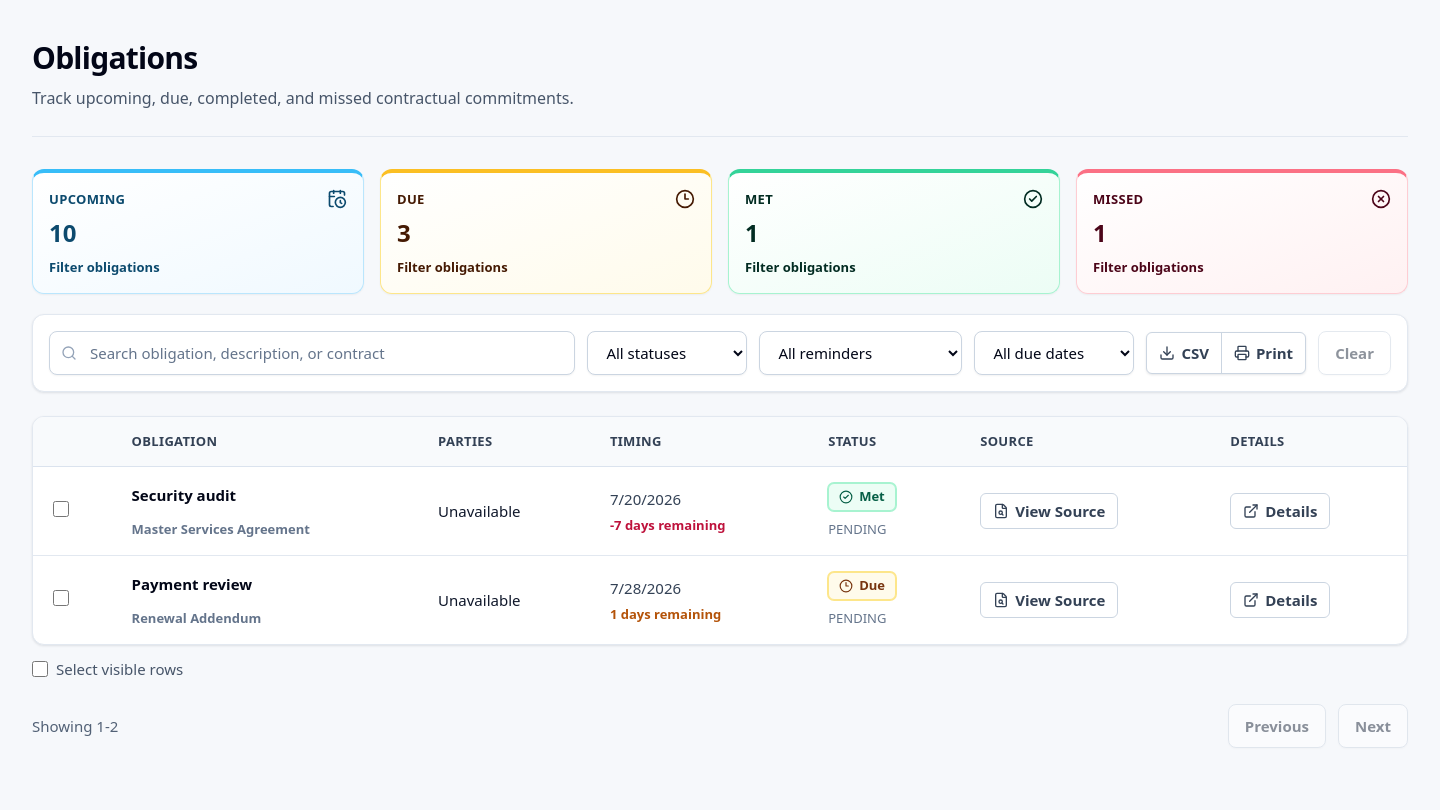
Test case: ObligationsPage › renders universal counts, contract names, filters, and routed action links
Expected: the text "10" is shown, [49, 216, 76, 249]
Expected: the text "3" is shown, [397, 216, 411, 249]
Click the button "Due 3 Filter obligations": (452, 267) [380, 169, 712, 294]
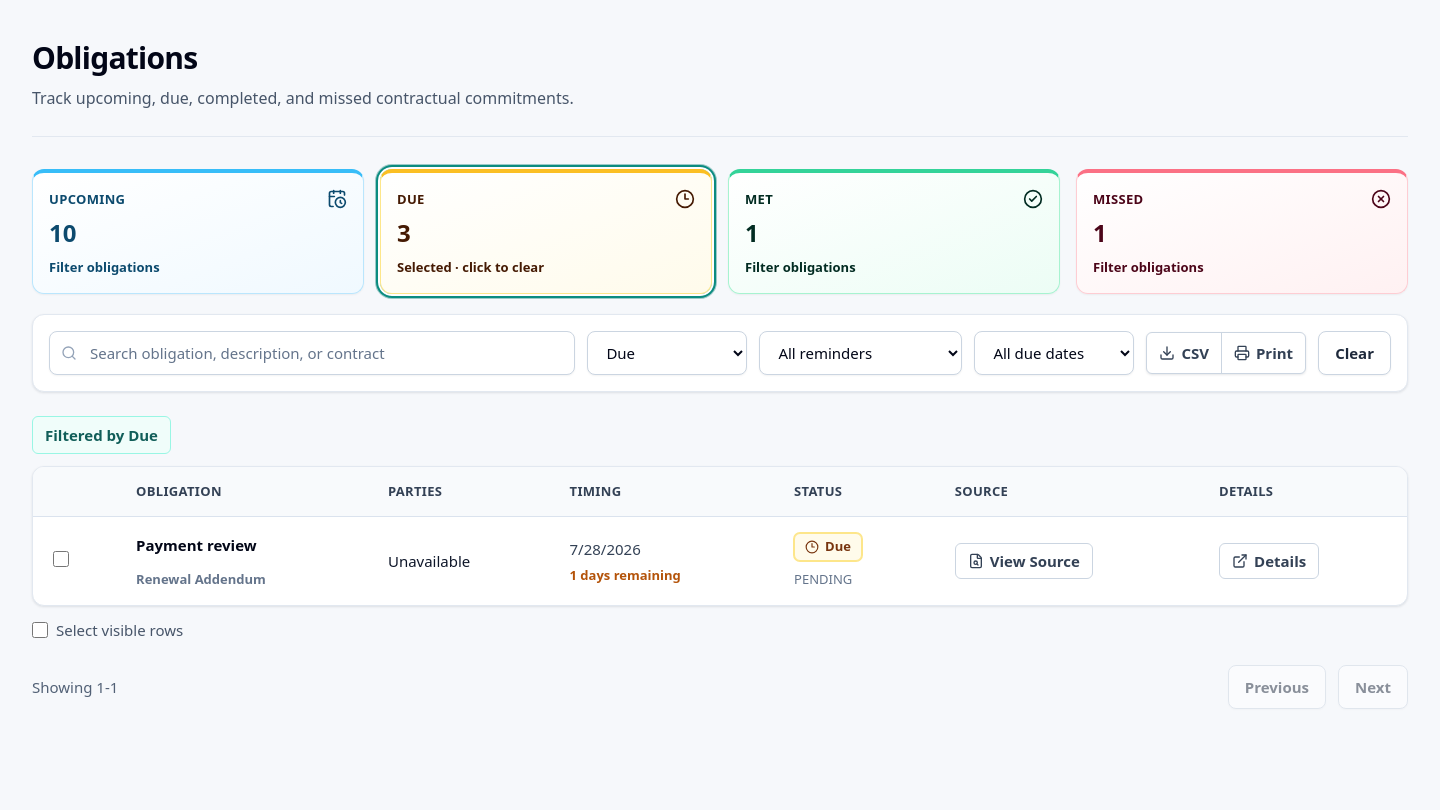
Expected: the text "Filtered by Due" is shown, [32, 416, 171, 454]
